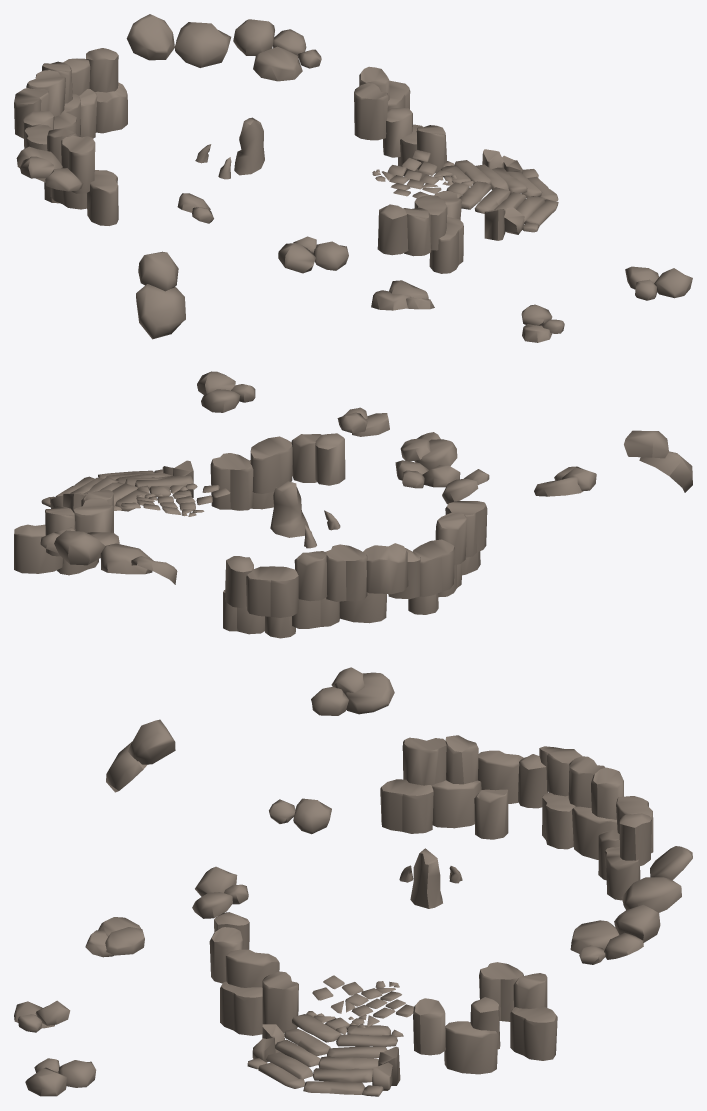
The picture shows the model from 3 angles, top to bottom: view 1: azimuth 30°, elevation 25°; view 2: azimuth 150°, elevation 25°; view 3: azimuth 270°, elevation 25°; orthographic projection. The views are drawn at different scales.
Parts seen in each view (by area): view 1: 006-0-6; view 2: 006-0-6; view 3: 006-0-6.
Boxes of the visible parts, x1,y1,x2,y2 form: 006-0-6: [14, 14, 692, 342]; 006-0-6: [14, 371, 692, 638]; 006-0-6: [14, 667, 692, 1096].
Size of the model in its own units: 69.84 by 20.2 by 73.11.
